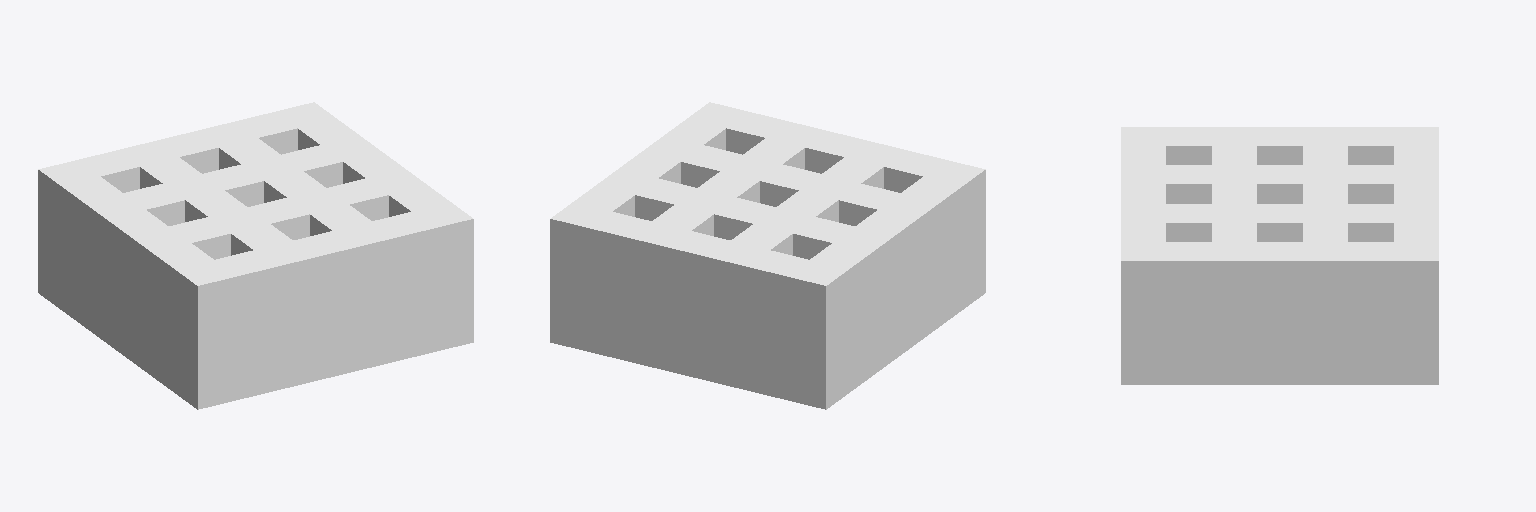
The model's file is Platform.obj.
3 views of the same model, side by side, from view 1: azimuth 30°, elevation 25°; view 2: azimuth 150°, elevation 25°; view 3: azimuth 270°, elevation 25° (orthographic).
Bounding box in the file's own units: 7 × 3 × 7.